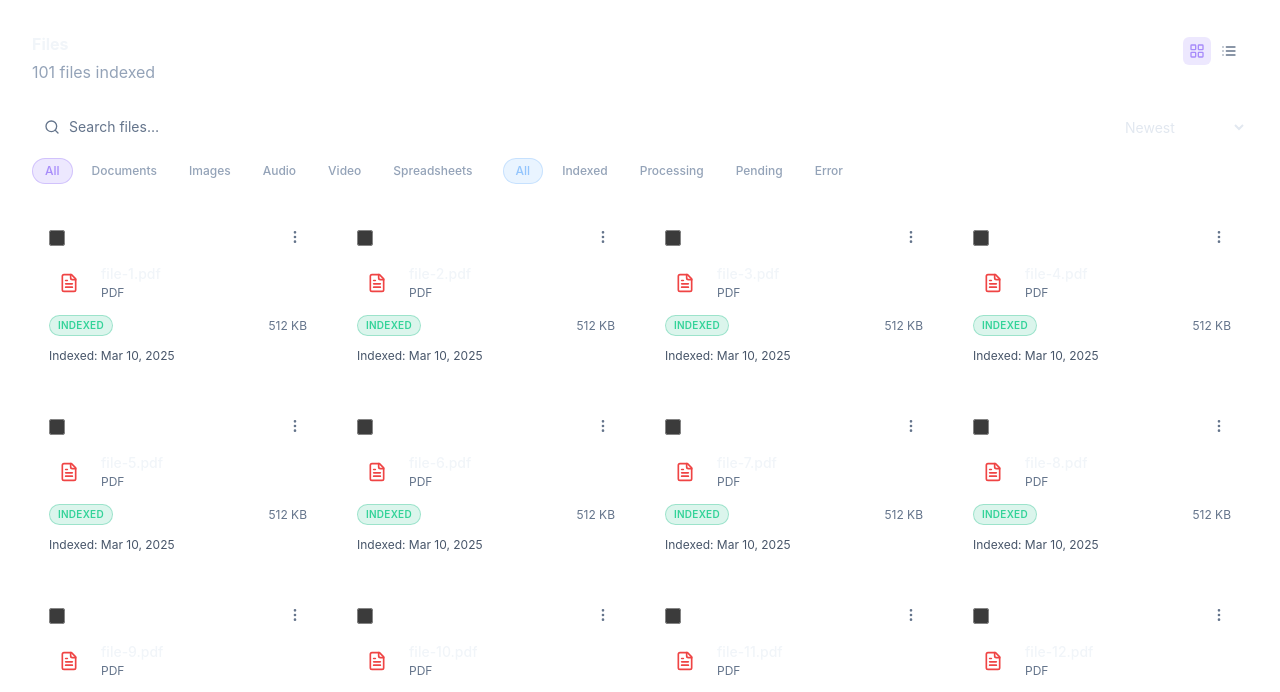
FilesBrowserPage › shows warning and disables actions when > 100 files are selected
Click the button named "table view". click: click(1229, 51)
box: [1215,37,1243,65]
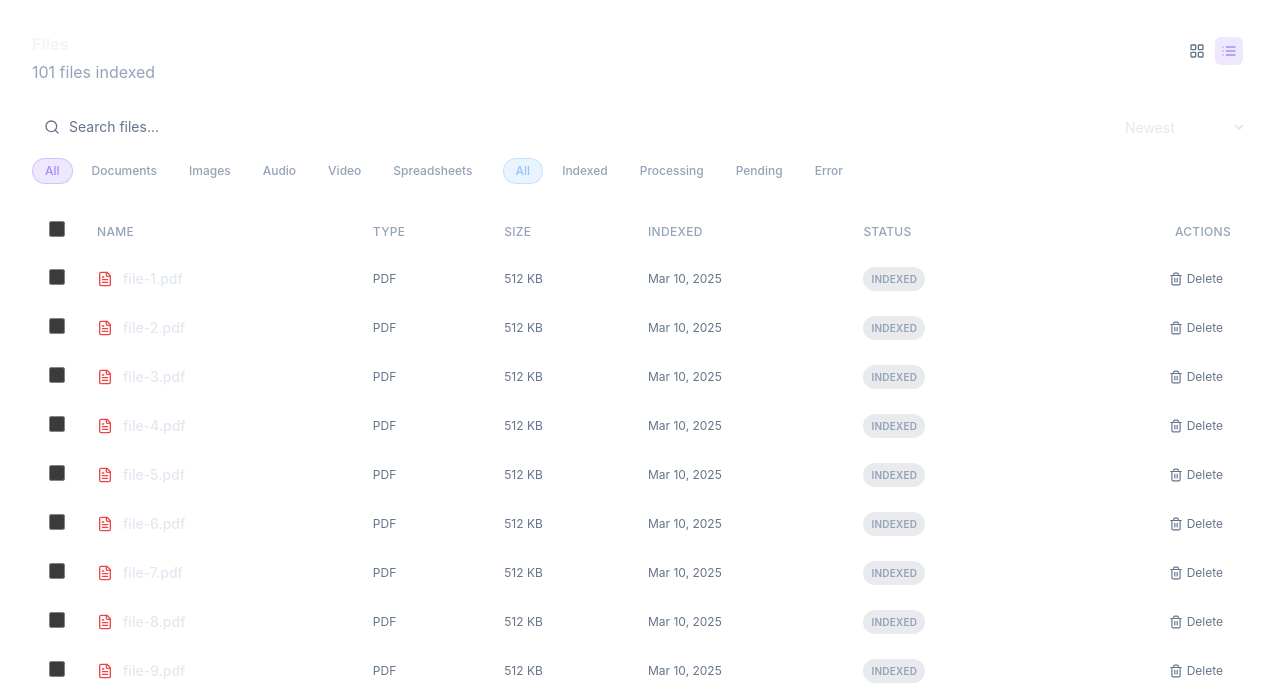
Click the checkbox named "select all". click: click(57, 229)
box: [49,221,65,237]
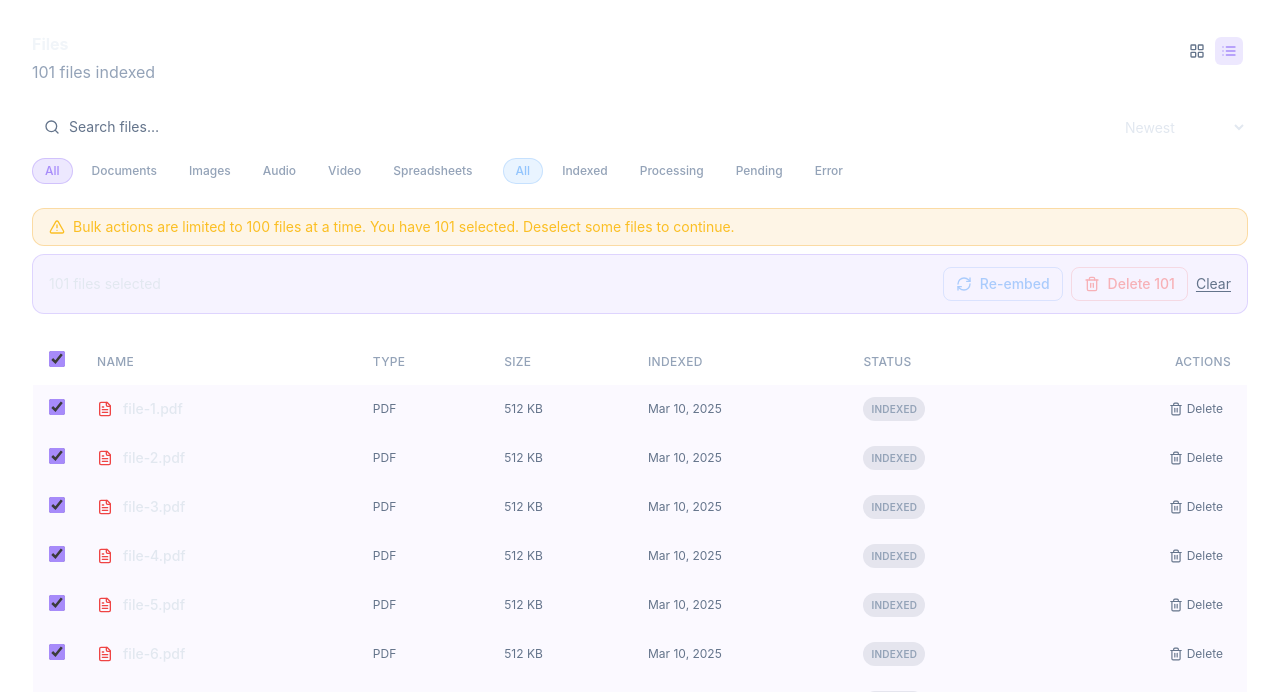
Now the message with test id "bulk-over-limit-warning" is shown, box [32,208,1248,246]
Now the button with test id "bulk-delete-btn" is disabled, box [1071,267,1188,301]
Now the button with test id "bulk-re-embed-btn" is disabled, box [943,267,1063,301]
